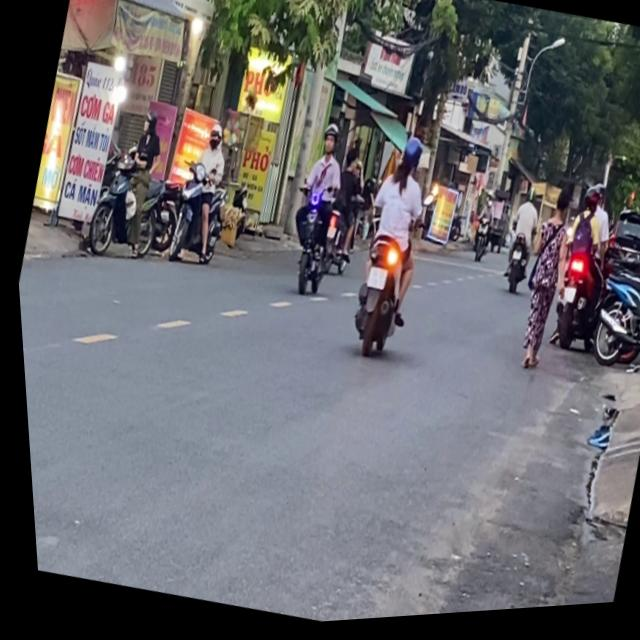helmet: (391, 137, 423, 181), (316, 125, 339, 160), (201, 122, 223, 152), (138, 110, 155, 137)
licenseplate: (326, 130, 448, 367), (267, 120, 360, 303), (154, 115, 246, 274)
nohelmet: (361, 270, 384, 295)
